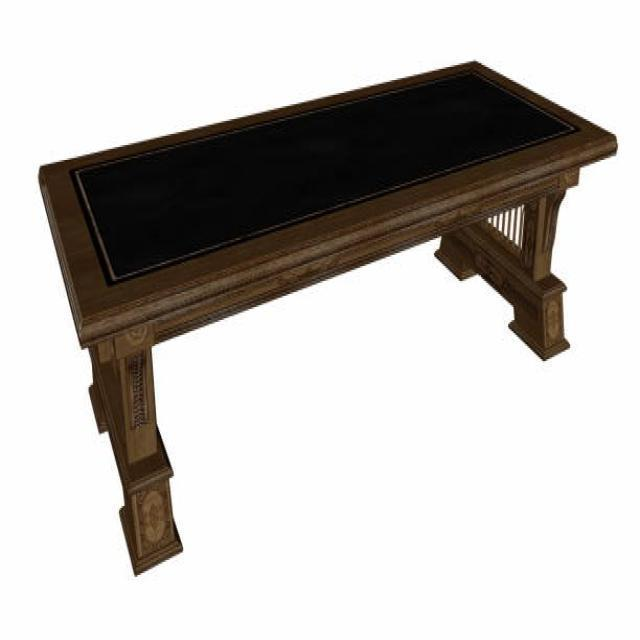table: (36, 58, 618, 575)
